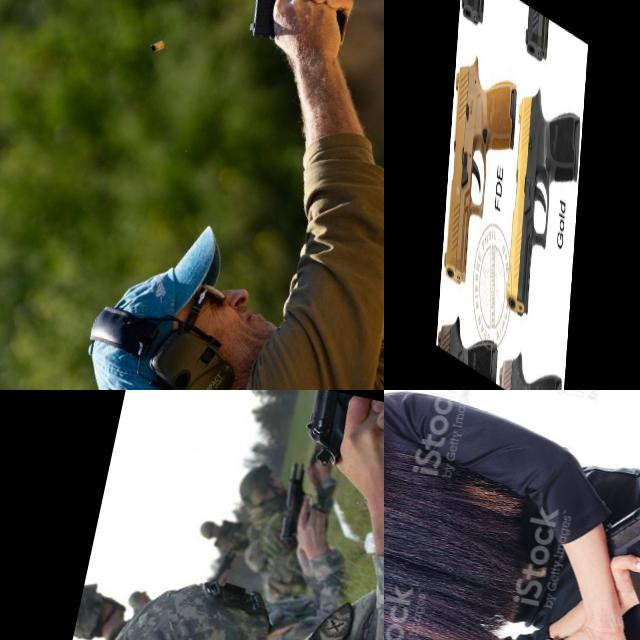handgun: (503, 72, 582, 348), (442, 41, 519, 314), (287, 390, 384, 509), (518, 5, 586, 162), (230, 0, 367, 67), (586, 456, 640, 618), (454, 0, 524, 121), (274, 458, 344, 550), (496, 331, 563, 390)
